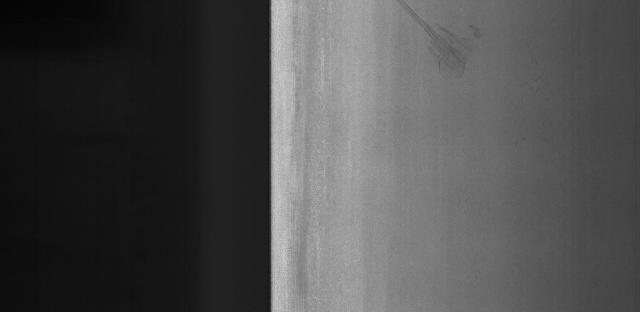water_spot: (386, 0, 509, 85)
